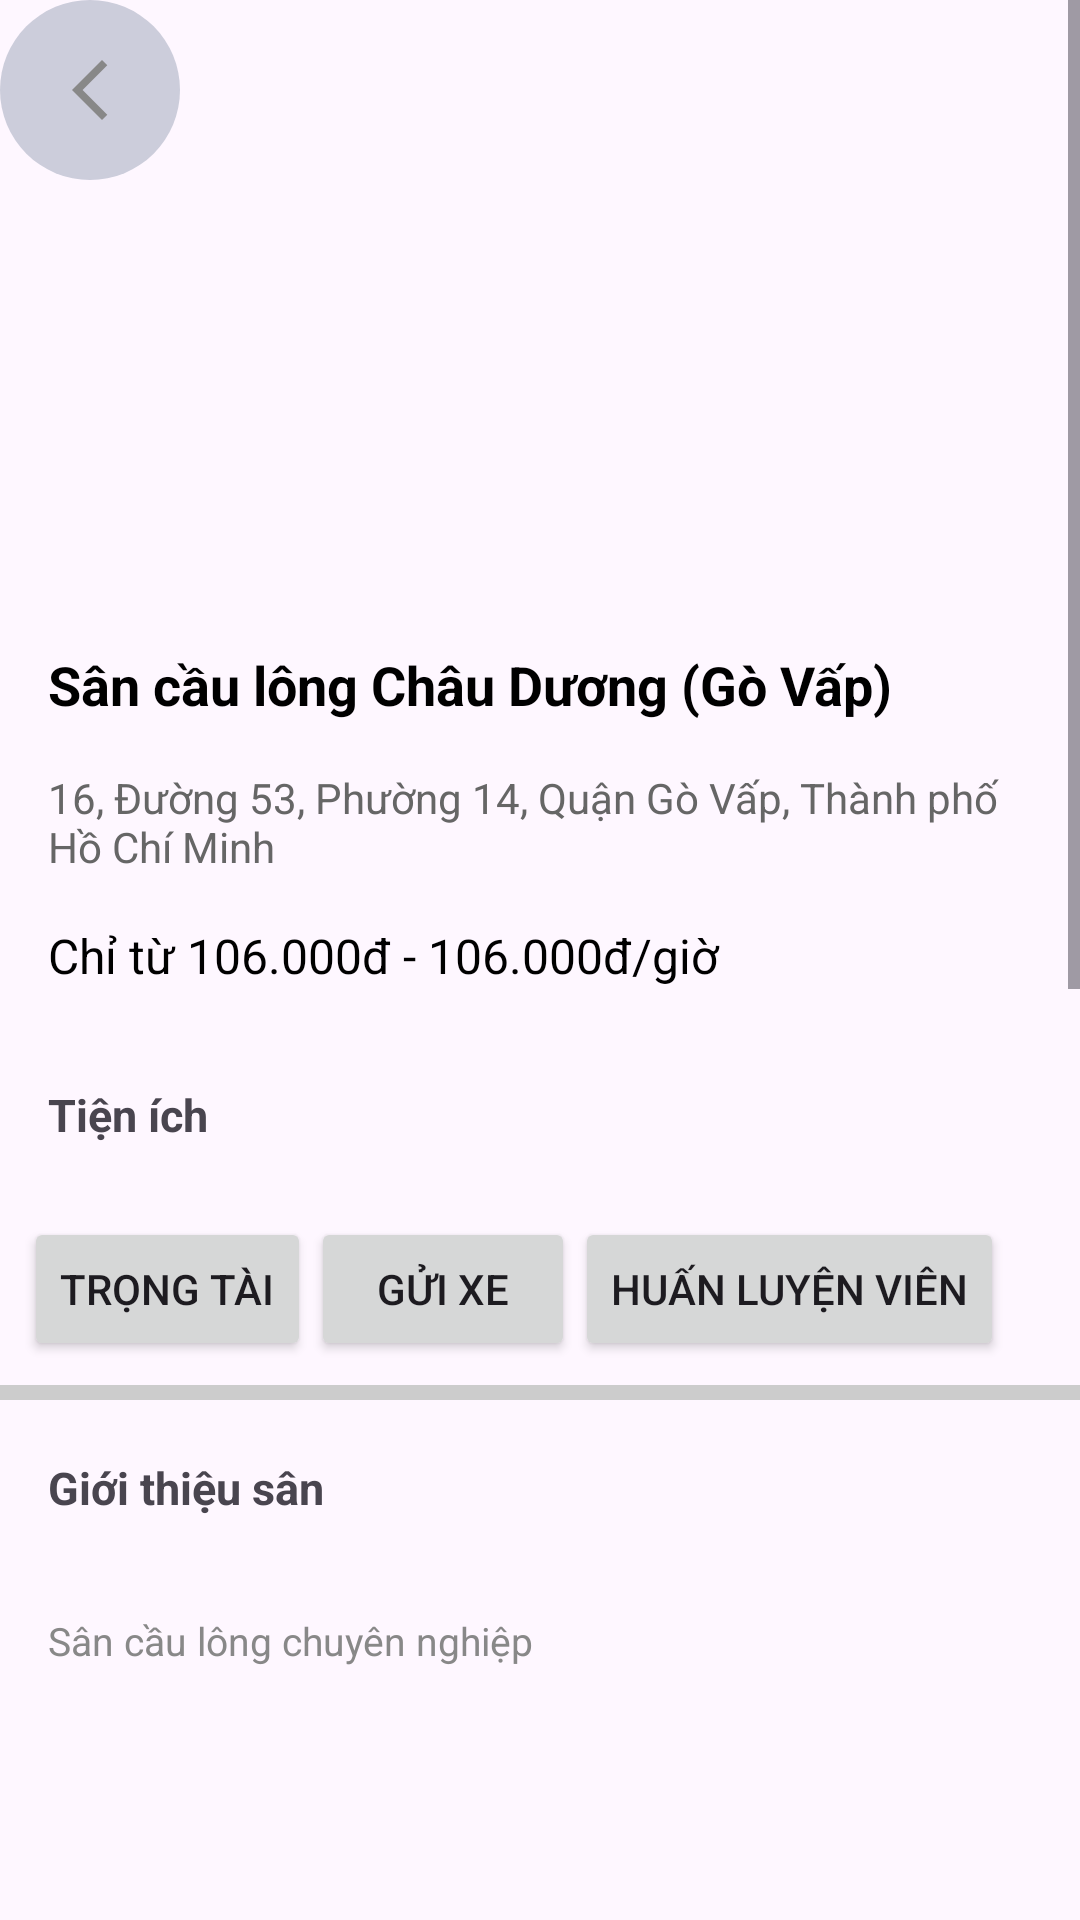

Where to tap for icons on this 1080w x 1920h app screen, as point (x, y):
back: point (89, 90)
